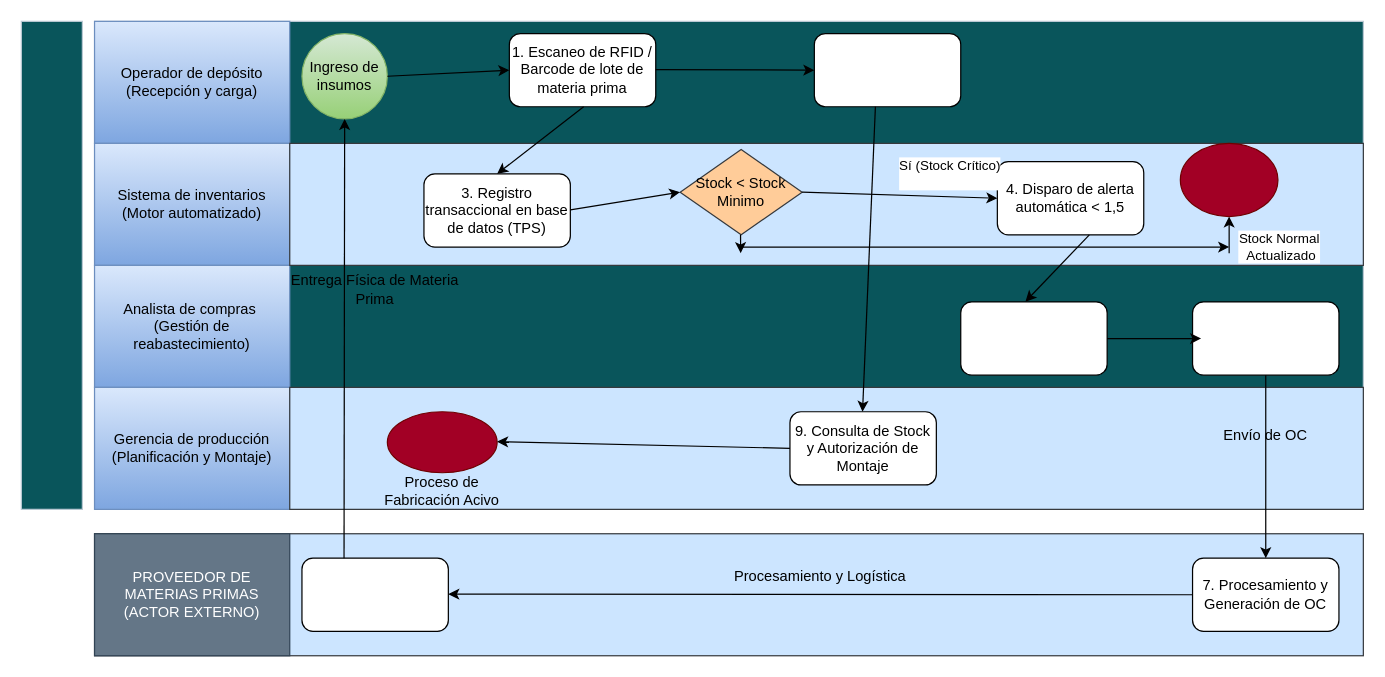
Some shapes in this 1385 by 677 pixel diagram are drawn without their labels. Here are the shapes that lost their labels. From the top down, the centre of each, then its label:
At (x=887, y=69): "2. Verificación física y control de calidad".
At (x=1228, y=179): "No (Suficiente)".
At (x=51, y=264): "Intel Corporation - Planta de Semiconductores".
At (x=1033, y=338): "5. Recepción de alertas y confirmación de Pedido".
At (x=1265, y=338): "6. Emisión de Orden De compra (OC)".
At (x=374, y=594): "8. Despacho y Envío de Silicio / Químicos".
